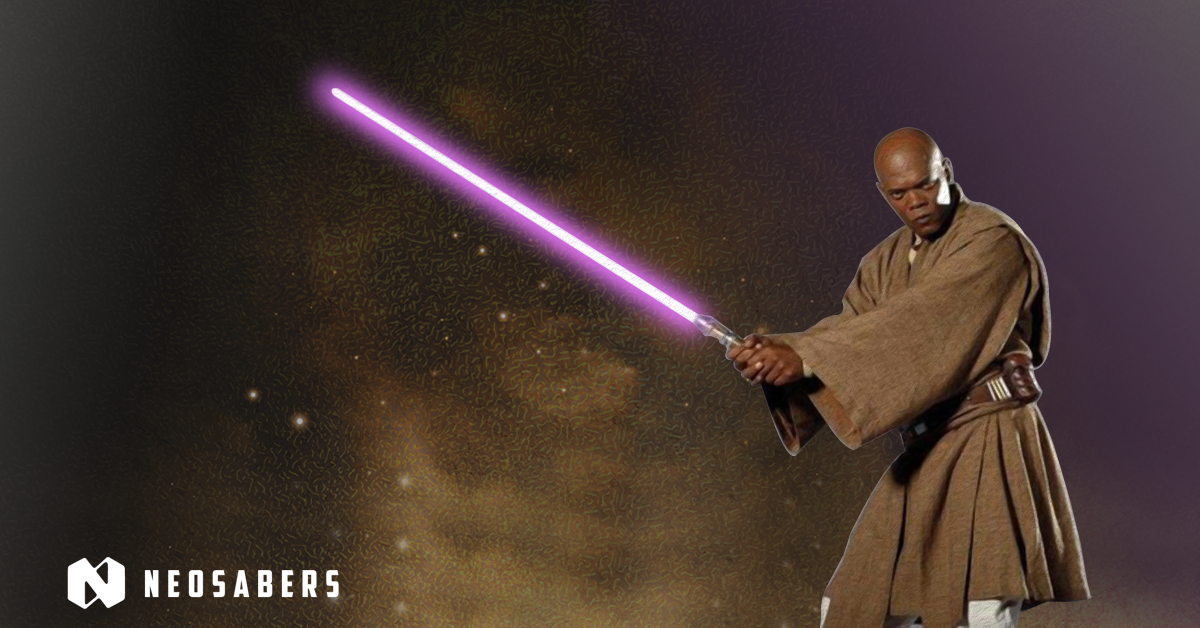lightsaber: (322, 72, 786, 433)
